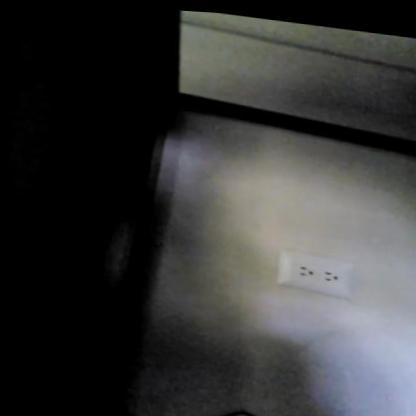OUTLET: (275, 251, 355, 299)
